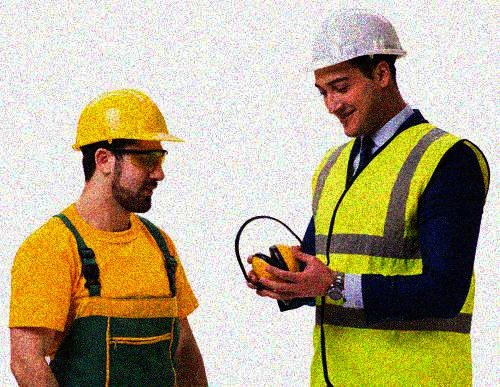helmet: (294, 7, 411, 140), (69, 85, 185, 213)
